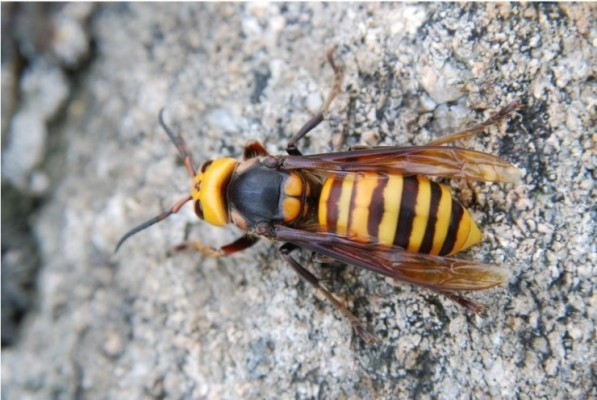asian_giant_hornet: (148, 106, 513, 292)
